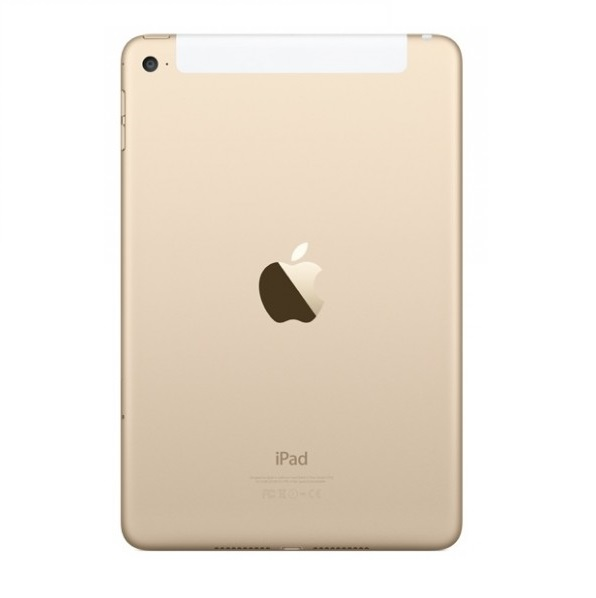Apple: (204, 215, 390, 373)
